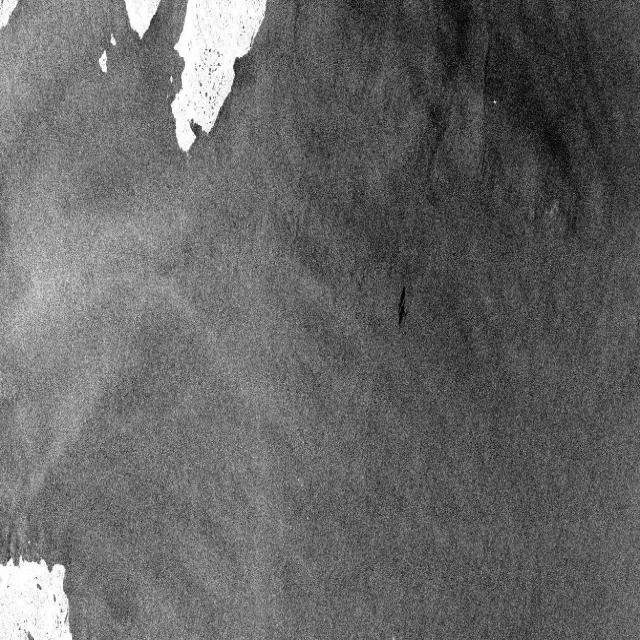oil-spill: (391, 280, 415, 337)
